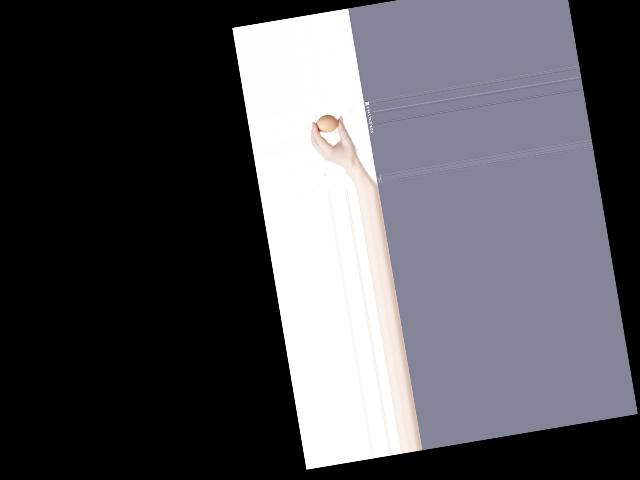egg: (315, 113, 339, 134)
